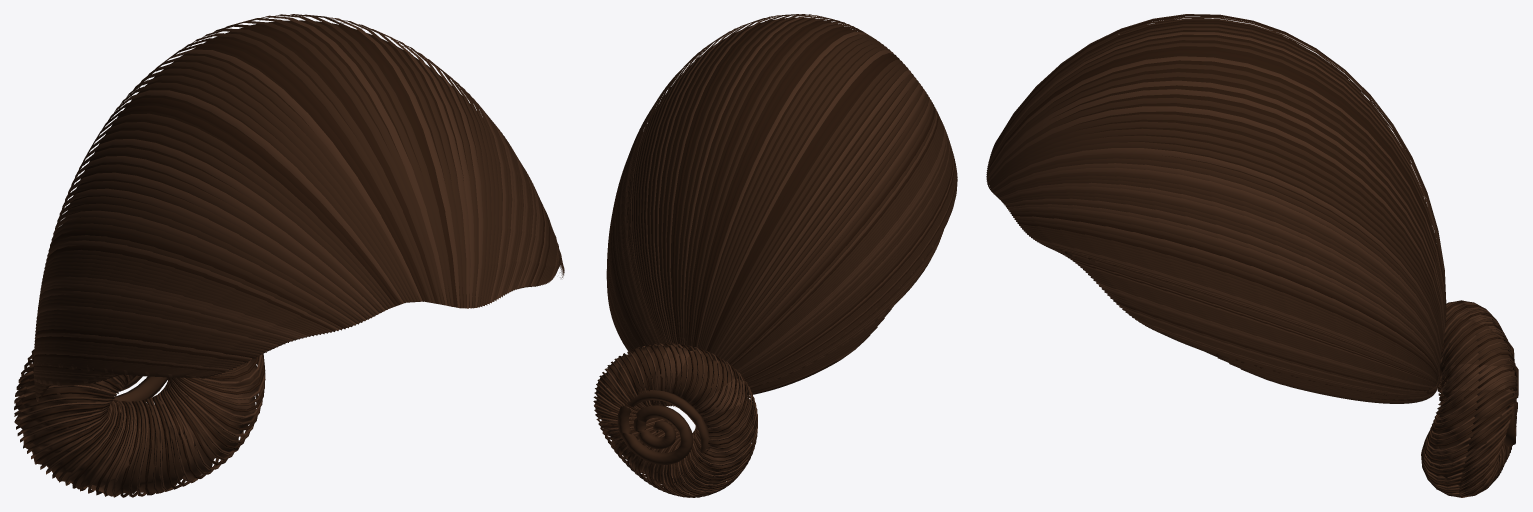
File: swept-bun-near.glb
3 views of the same model, side by side, from view 1: azimuth 30°, elevation 25°; view 2: azimuth 150°, elevation 25°; view 3: azimuth 270°, elevation 25° (orthographic). The views are drawn at different scales.
Parts seen in each view (by area): view 1: S02 swept scalp ribbons - near, S02 twist fibre ridges - near, S02 swept foundation - near, S02 sculpted low twist - near, S02 wound centre - near; view 2: S02 swept scalp ribbons - near, S02 swept foundation - near, S02 twist fibre ridges - near, S02 sculpted low twist - near, S02 wound centre - near; view 3: S02 swept scalp ribbons - near, S02 swept foundation - near, S02 twist fibre ridges - near, S02 sculpted low twist - near.
Part boxes in pixels (x1,y1,x2,y2): S02 swept scalp ribbons - near: (33, 14, 564, 401); S02 twist fibre ridges - near: (14, 349, 265, 497); S02 swept foundation - near: (40, 20, 560, 398); S02 sculpted low twist - near: (14, 356, 262, 496); S02 wound centre - near: (113, 375, 168, 408); S02 swept scalp ribbons - near: (606, 14, 957, 395); S02 swept foundation - near: (625, 17, 909, 347); S02 twist fibre ridges - near: (593, 343, 757, 497); S02 sculpted low twist - near: (594, 343, 754, 496); S02 wound centre - near: (617, 390, 710, 464); S02 swept scalp ribbons - near: (986, 14, 1446, 403); S02 swept foundation - near: (1048, 18, 1441, 318); S02 twist fibre ridges - near: (1421, 300, 1517, 497); S02 sculpted low twist - near: (1425, 305, 1516, 495).
Bounding box in the file's own units: 0.1687 × 0.2097 × 0.2203.
